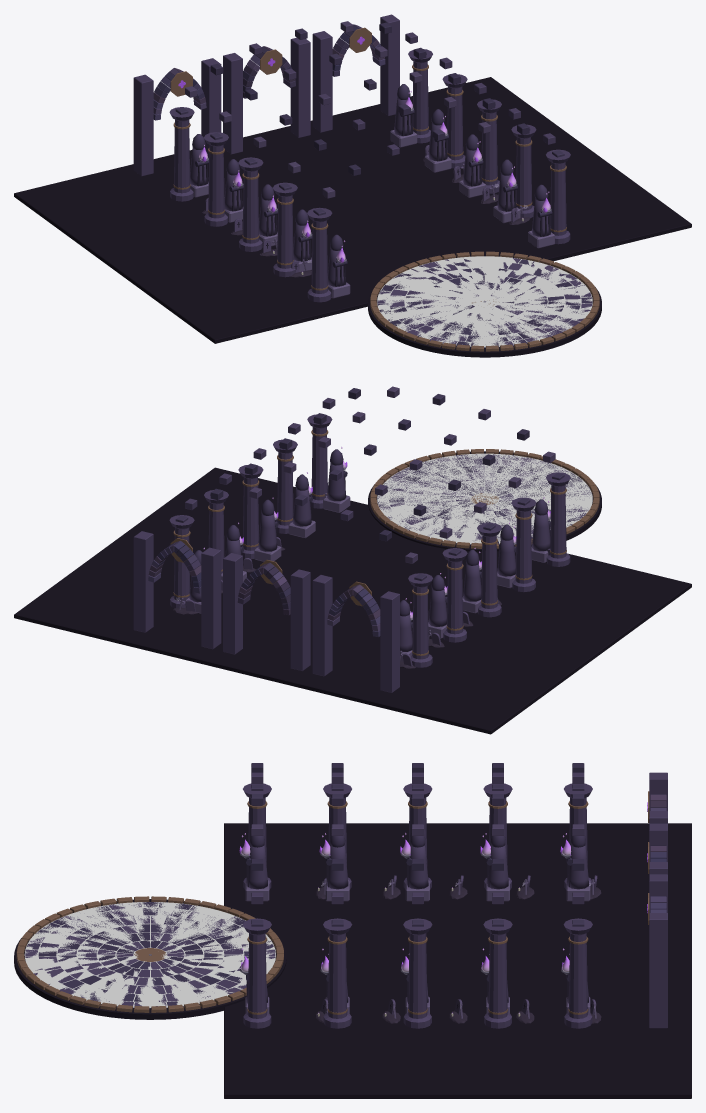
Rendered from arena.fbx.
3 views of the same model, one above another, from view 1: azimuth 30°, elevation 25°; view 2: azimuth 150°, elevation 25°; view 3: azimuth 270°, elevation 25° (orthographic). The views are drawn at different scales.
Visible parts, largest first — view 1: arena_backdrop, Col_Ground, arena; view 2: arena_backdrop, Col_Ground, arena; view 3: arena_backdrop, arena, Col_Ground.
Part boxes in pixels (<box>): arena_backdrop: <box>14,14,691,343</box>; Col_Ground: <box>377,256,592,347</box>; arena: <box>368,251,601,357</box>; arena_backdrop: <box>14,386,691,734</box>; Col_Ground: <box>377,453,592,544</box>; arena: <box>368,449,601,551</box>; arena_backdrop: <box>224,763,691,1098</box>; arena: <box>14,896,286,1019</box>; Col_Ground: <box>24,902,275,1007</box>.
Size of what is drawn, in the model's own units: 48 by 13.82 by 50.7.
